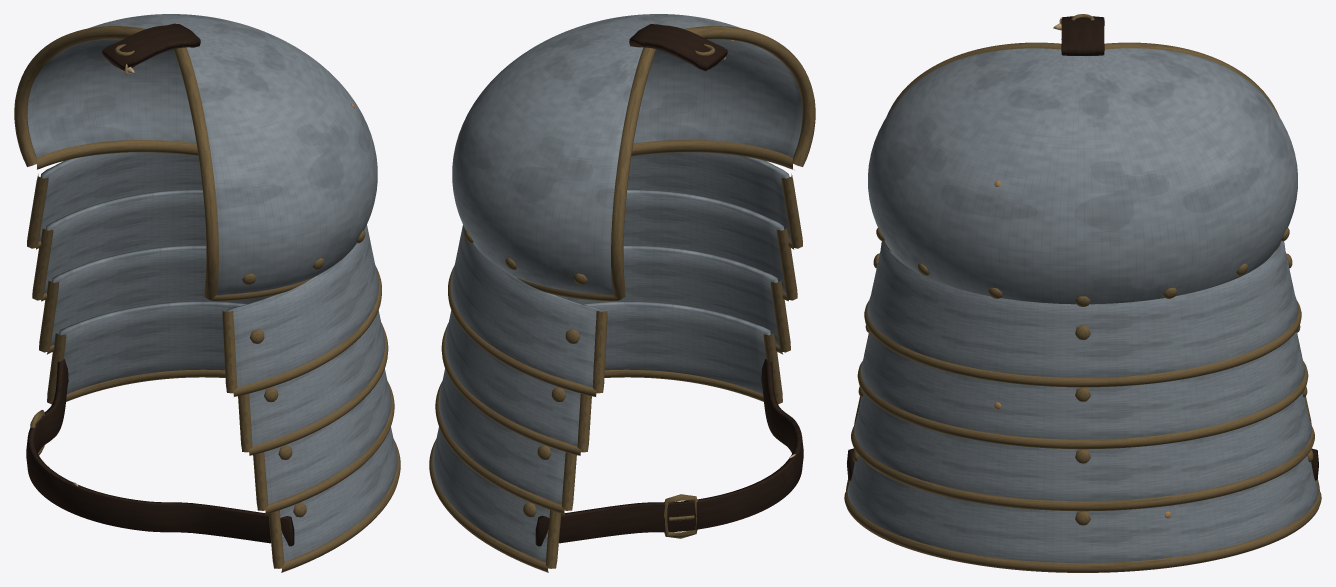
The picture shows the model from 3 angles, left to right: view 1: azimuth 30°, elevation 25°; view 2: azimuth 150°, elevation 25°; view 3: azimuth 270°, elevation 25°; orthographic projection. The views are drawn at different scales.
Visible parts, largest first — view 1: hammered plate, aged alloy edge, oiled strap leather; view 2: hammered plate, aged alloy edge, oiled strap leather; view 3: hammered plate, aged alloy edge, oiled strap leather.
Part boxes in pixels (x1,y1,x2,y2): hammered plate: [27, 14, 397, 561]; aged alloy edge: [14, 26, 400, 572]; oiled strap leather: [26, 23, 294, 546]; hammered plate: [432, 14, 802, 562]; aged alloy edge: [429, 26, 815, 572]; oiled strap leather: [535, 24, 803, 546]; hammered plate: [847, 48, 1318, 562]; aged alloy edge: [844, 14, 1321, 572]; oiled strap leather: [847, 16, 1318, 480].
Size of the model in its own units: 0.1967 by 0.2679 by 0.2484.
5 materials, 3 textured.
